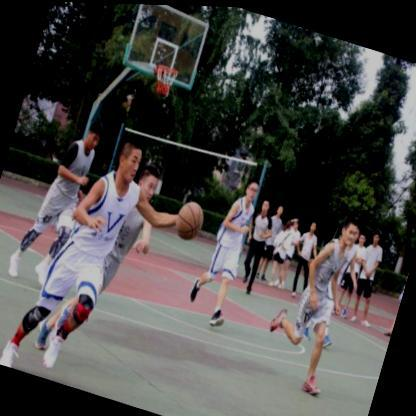basketball: (171, 197, 207, 243)
rim: (150, 62, 179, 98)
